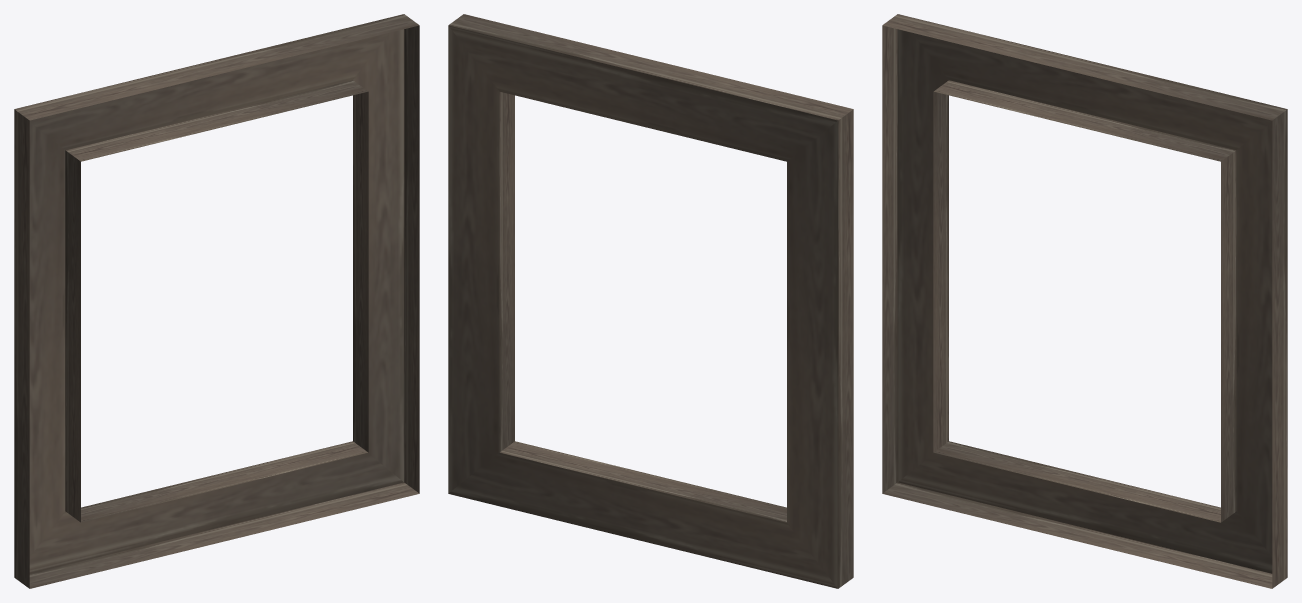
The model's file is Trap_Door_Frame.fbx.
3 views of the same model, side by side, from view 1: azimuth 30°, elevation 25°; view 2: azimuth 150°, elevation 25°; view 3: azimuth 330°, elevation 25° (orthographic).
Parts seen in each view (by area): view 1: Trap_Door_Frame; view 2: Trap_Door_Frame; view 3: Trap_Door_Frame.
Part boxes in pixels (<box>): Trap_Door_Frame: <box>14,14,419,588</box>; Trap_Door_Frame: <box>448,14,853,588</box>; Trap_Door_Frame: <box>882,14,1287,588</box>.
Size of the model in its own units: 2.16 by 2.47 by 0.1494.
